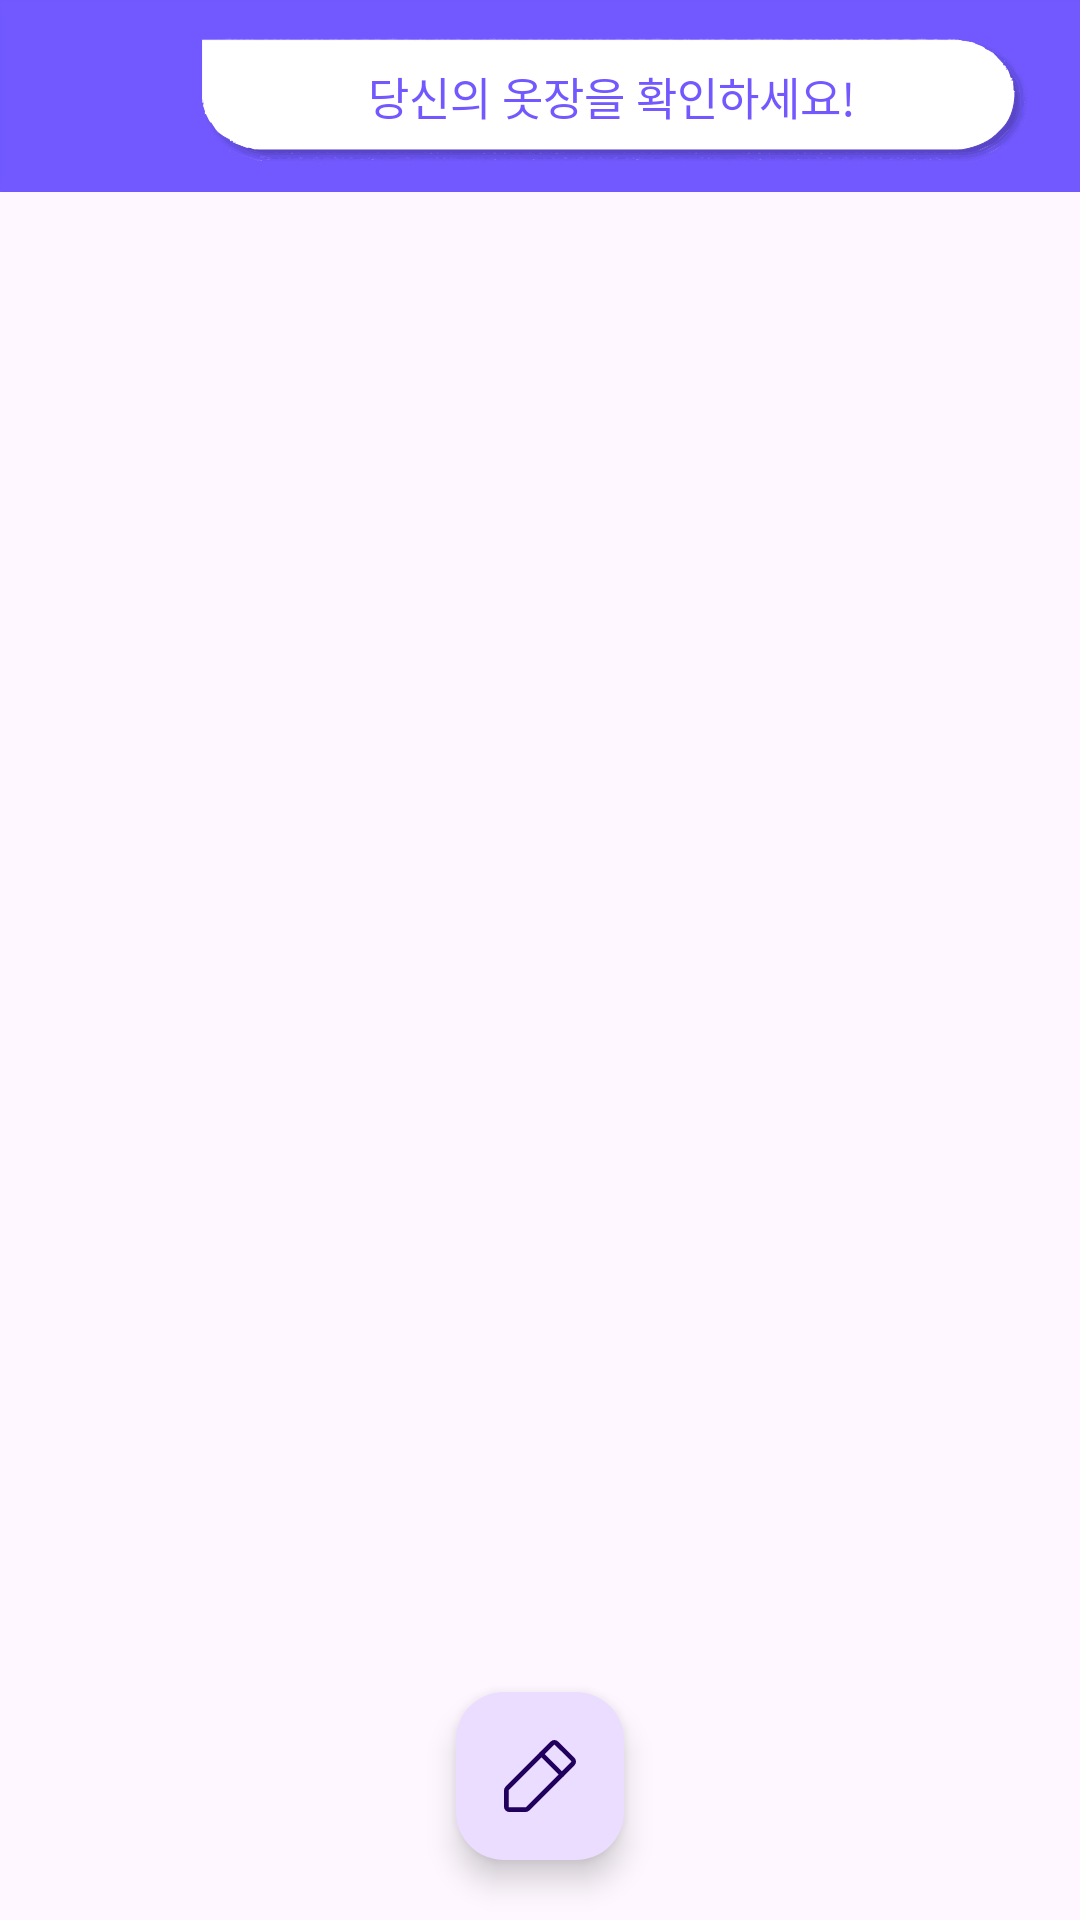

Icons on this 1080 × 1920 Android screen, each with the point to tap as (x,y):
closet edit: (540,1776)
